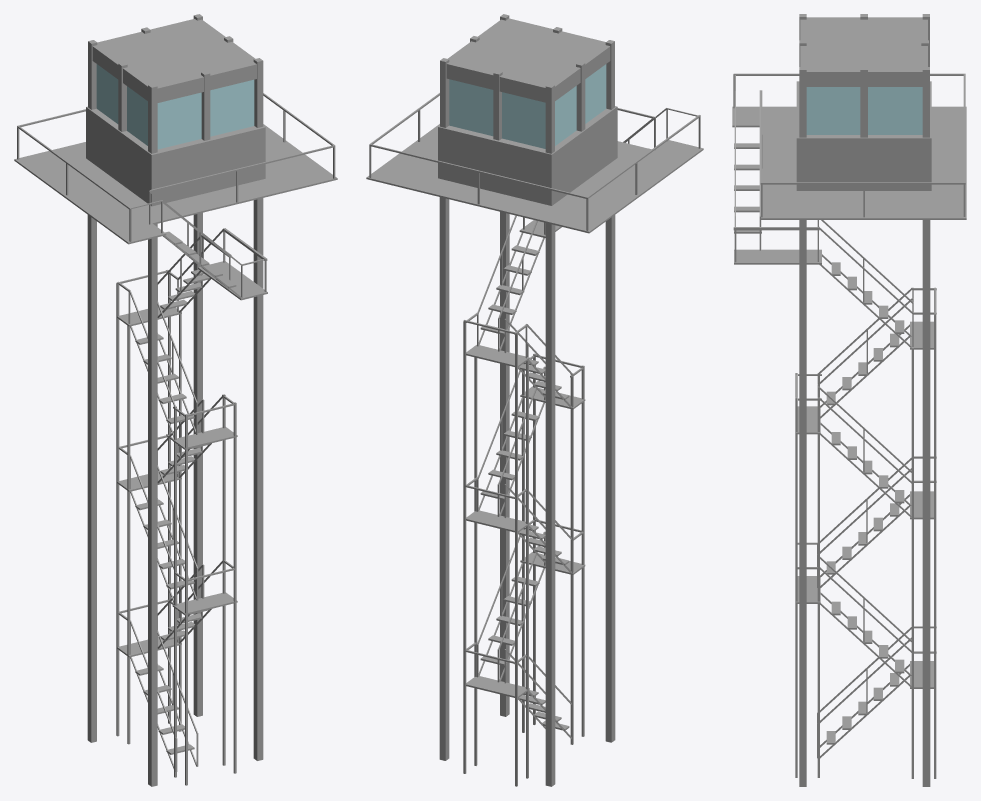
File: Lookout Tower.fbx
3 views of the same model, side by side, from view 1: azimuth 30°, elevation 25°; view 2: azimuth 150°, elevation 25°; view 3: azimuth 270°, elevation 25° (orthographic). The views are drawn at different scales.
Parts seen in each view (by area): view 1: pCube193; view 2: pCube193; view 3: pCube193.
Part boxes in pixels (left/top/right/bottom): pCube193: left=14, top=14, right=337, bottom=786; pCube193: left=366, top=14, right=703, bottom=786; pCube193: left=732, top=14, right=966, bottom=786.
Size of the model in its own units: 0.2065 by 0.6232 by 0.183.
